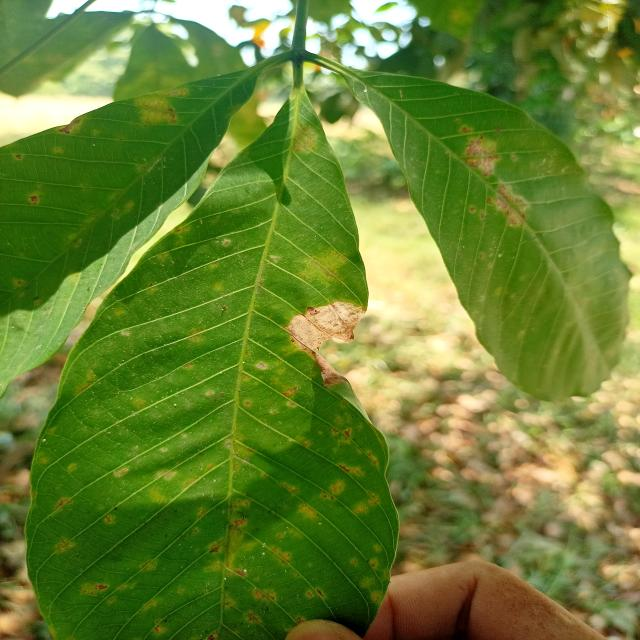Leaf-Blight: (283, 300, 366, 386)
